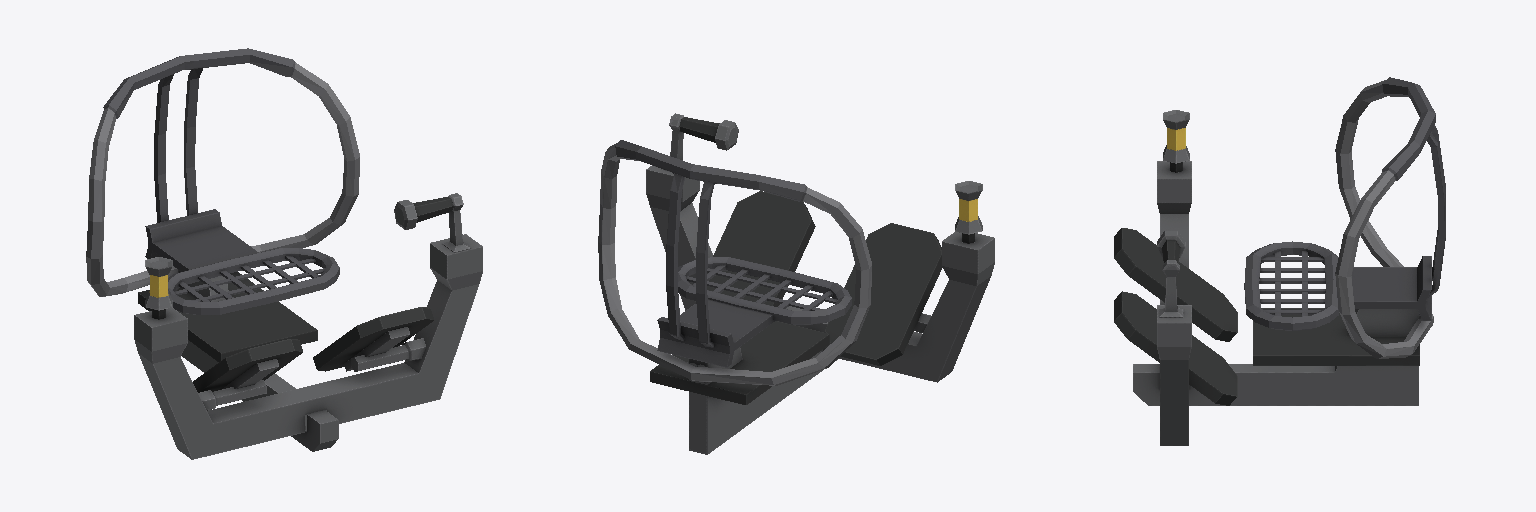
The picture shows the model from 3 angles: view 1: azimuth 30°, elevation 25°; view 2: azimuth 150°, elevation 25°; view 3: azimuth 270°, elevation 25°; orthographic projection.
Visible parts, largest first — view 1: EAS1ExternalCommandSeat_mesh; view 2: EAS1ExternalCommandSeat_mesh; view 3: EAS1ExternalCommandSeat_mesh.
Part boxes in pixels (x1,y1,x2,y2): EAS1ExternalCommandSeat_mesh: (86,48,482,459); EAS1ExternalCommandSeat_mesh: (598,113,994,454); EAS1ExternalCommandSeat_mesh: (1114,77,1445,445).
Bounding box in the file's own units: 2.69 × 2.26 × 2.33.
1 materials, 1 textured.